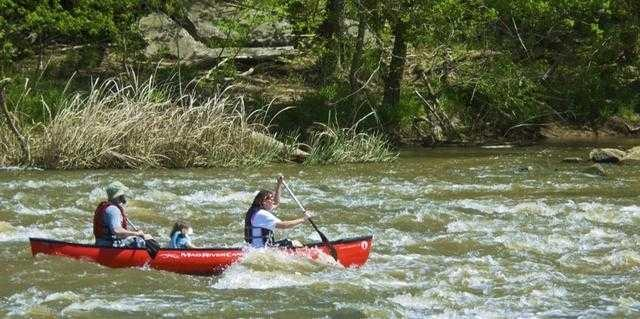kayak: (30, 236, 244, 274)
